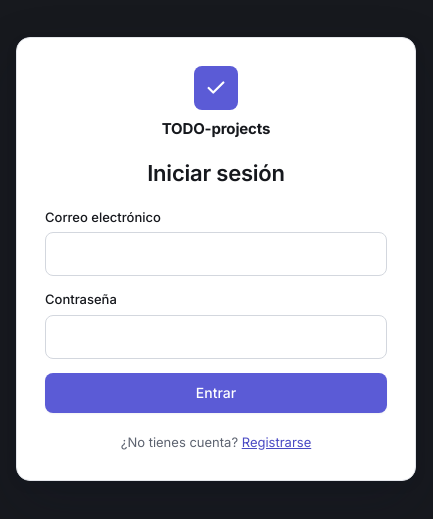
Test: Login › muestra un error si falla el login
In the field labelled "Correo electrónico": (216, 254) left=45, top=232, right=387, bottom=276, type "a@b.com"
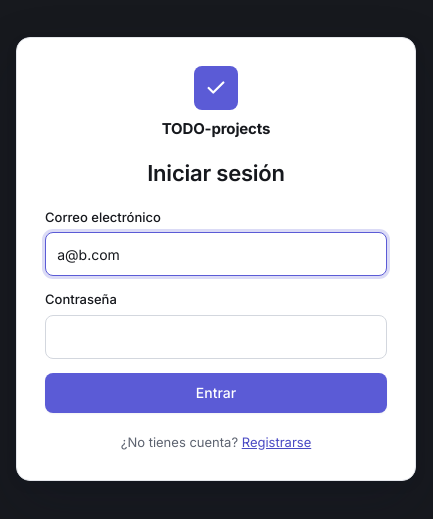
In the password field labelled "Contraseña": (216, 336) left=45, top=314, right=387, bottom=358, type "contrasena-incorrecta"
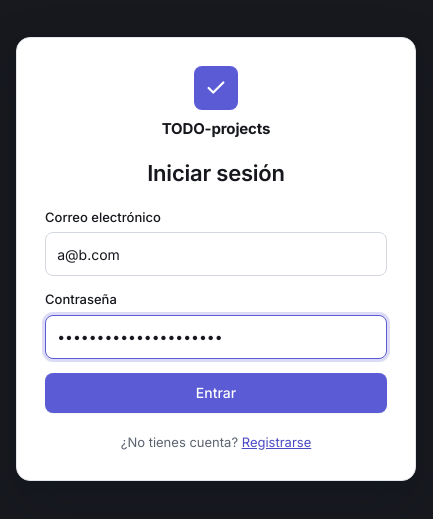
Click the button "Entrar": (216, 392) left=45, top=372, right=387, bottom=412
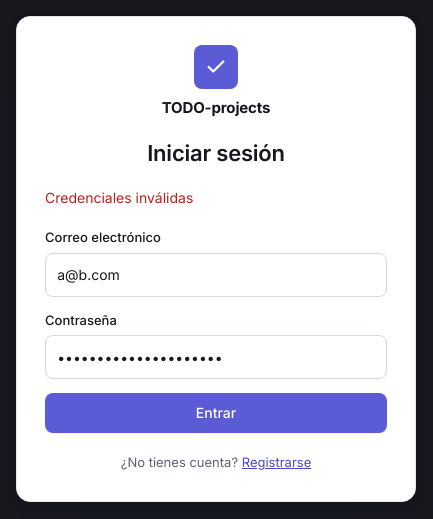
Check: the text "Credenciales inválidas" is shown, box left=45, top=190, right=193, bottom=206
